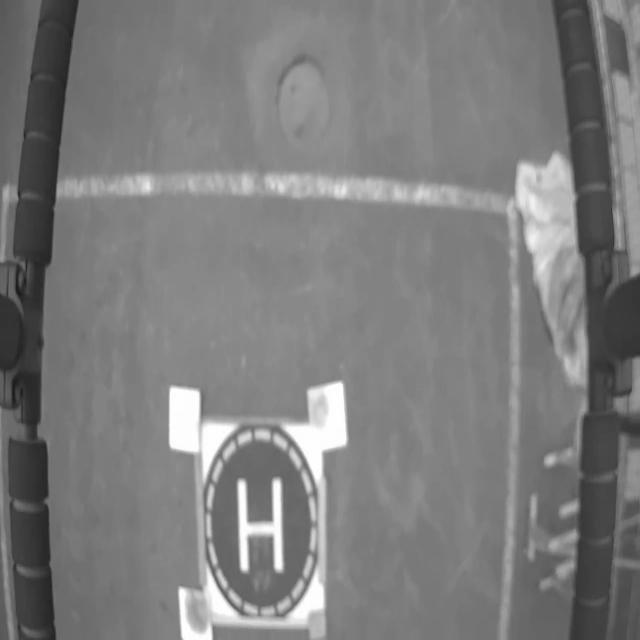Helipad: (238, 477, 284, 575)
